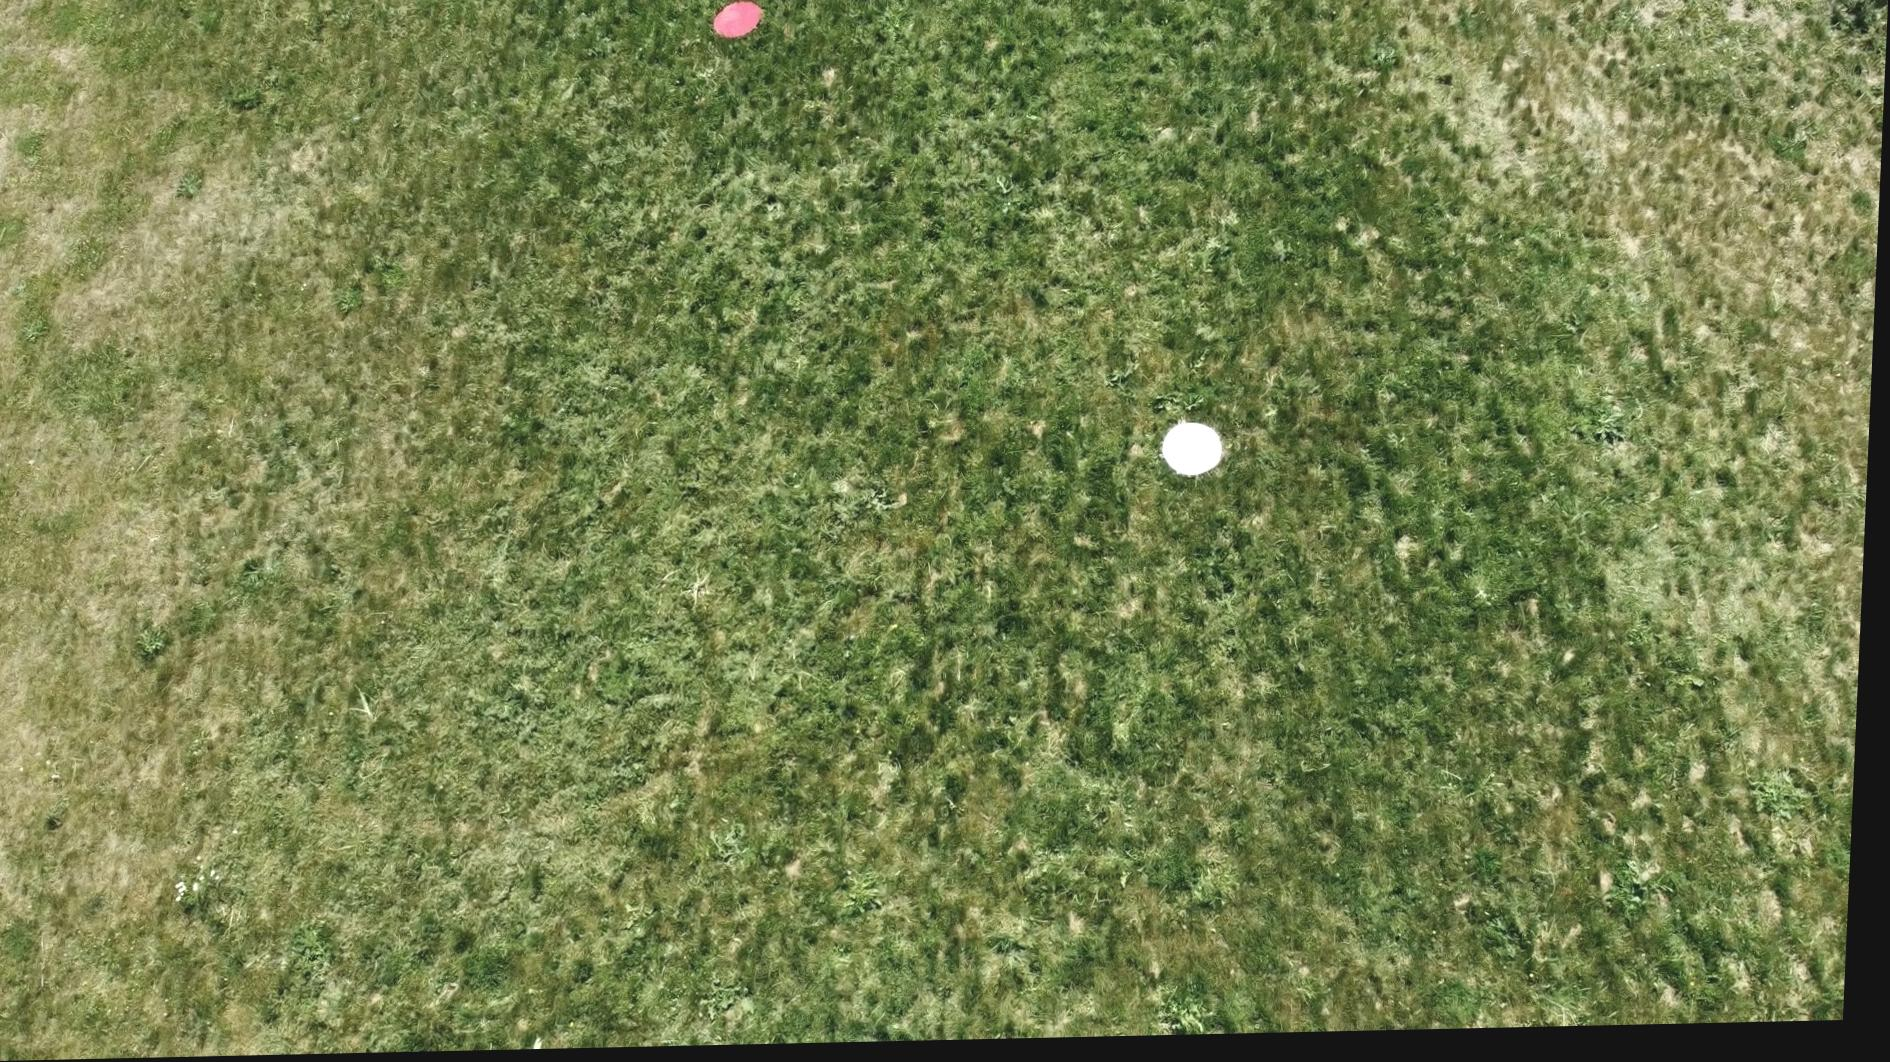Red: (711, 3, 765, 44)
Unknown: (1160, 423, 1232, 489)
